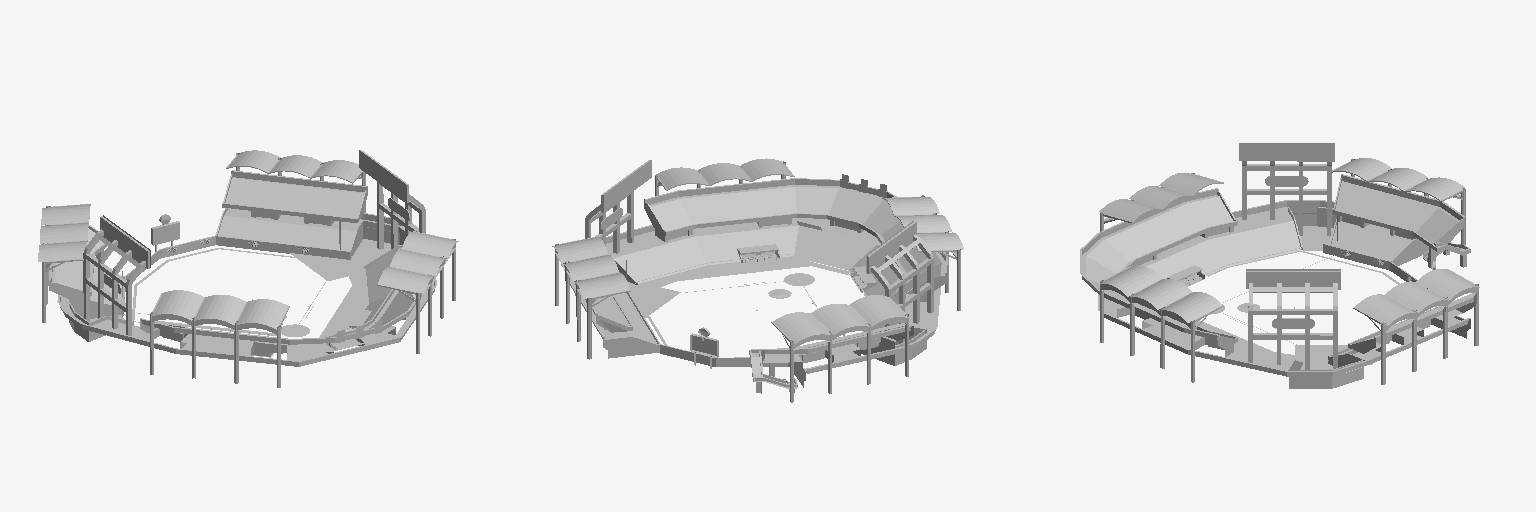
The model's file is basee.obj.
3 renders of one model, left to right at view 1: azimuth 30°, elevation 25°; view 2: azimuth 150°, elevation 25°; view 3: azimuth 270°, elevation 25°, orthographic.
Parts seen in each view (by area): view 1: DrawCall_0144.002, DrawCall_0297.002, DrawCall_0287.002, DrawCall_0308.002, DrawCall_0274.002, DrawCall_0224.002, DrawCall_0122.002, DrawCall_0357.002, DrawCall_0192.002, DrawCall_0228.002, DrawCall_0353.002, DrawCall_0367.002 (+17 smaller); view 2: DrawCall_0229.002, DrawCall_0205.002, DrawCall_0223.002, DrawCall_0308.002, DrawCall_0228.002, DrawCall_0274.002, DrawCall_0287.002, DrawCall_0187.002, DrawCall_0297.002, DrawCall_0084.002, DrawCall_0215.002, DrawCall_0367.002 (+17 smaller); view 3: DrawCall_0187.002, DrawCall_0174.002, DrawCall_0274.002, DrawCall_0287.002, DrawCall_0239.002, DrawCall_0357.002, DrawCall_0368.002, DrawCall_0308.002, DrawCall_0297.002, DrawCall_0228.002, DrawCall_0367.002, DrawCall_0158.002 (+17 smaller).
Boxes of the visible parts, <box> form: DrawCall_0144.002: <box>225,178,359,217</box>; DrawCall_0297.002: <box>151,290,287,328</box>; DrawCall_0287.002: <box>378,233,456,293</box>; DrawCall_0308.002: <box>38,204,90,261</box>; DrawCall_0274.002: <box>227,150,360,182</box>; DrawCall_0224.002: <box>149,326,394,353</box>; DrawCall_0122.002: <box>271,222,351,250</box>; DrawCall_0357.002: <box>83,183,418,332</box>; DrawCall_0192.002: <box>89,316,399,366</box>; DrawCall_0228.002: <box>140,303,415,344</box>; DrawCall_0353.002: <box>83,236,141,334</box>; DrawCall_0367.002: <box>100,150,408,268</box>; DrawCall_0229.002: <box>653,187,791,230</box>; DrawCall_0205.002: <box>671,226,822,269</box>; DrawCall_0223.002: <box>795,187,899,234</box>; DrawCall_0308.002: <box>773,295,907,343</box>; DrawCall_0228.002: <box>644,179,946,293</box>; DrawCall_0274.002: <box>552,237,629,298</box>; DrawCall_0287.002: <box>657,158,792,189</box>; DrawCall_0187.002: <box>811,232,905,330</box>; DrawCall_0297.002: <box>883,197,963,250</box>; DrawCall_0084.002: <box>674,257,810,280</box>; DrawCall_0215.002: <box>617,244,683,282</box>; DrawCall_0367.002: <box>601,160,916,273</box>; DrawCall_0187.002: <box>1146,222,1296,278</box>; DrawCall_0174.002: <box>1340,184,1456,242</box>; DrawCall_0274.002: <box>1355,269,1479,325</box>; DrawCall_0287.002: <box>1101,265,1221,322</box>; DrawCall_0239.002: <box>1134,197,1228,248</box>; DrawCall_0357.002: <box>1242,161,1332,339</box>; DrawCall_0368.002: <box>1239,143,1340,270</box>; DrawCall_0308.002: <box>1332,158,1464,201</box>; DrawCall_0297.002: <box>1099,173,1222,222</box>; DrawCall_0228.002: <box>1082,189,1237,342</box>; DrawCall_0367.002: <box>1246,161,1340,289</box>; DrawCall_0158.002: <box>1331,223,1406,259</box>.
Size of the model in its own units: 479 by 132 by 463.